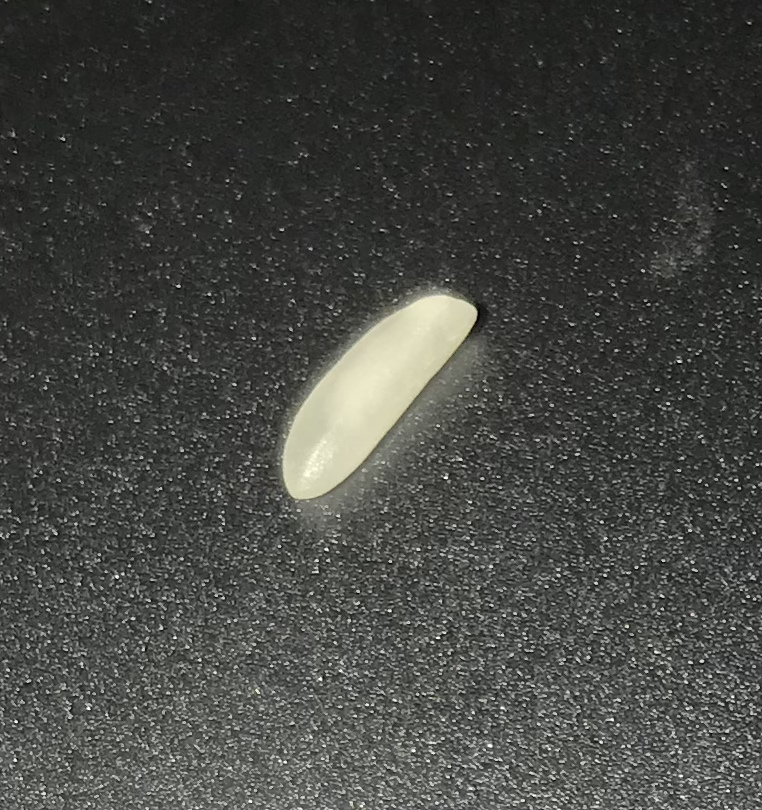Gao Thom My: (282, 267, 488, 519)
